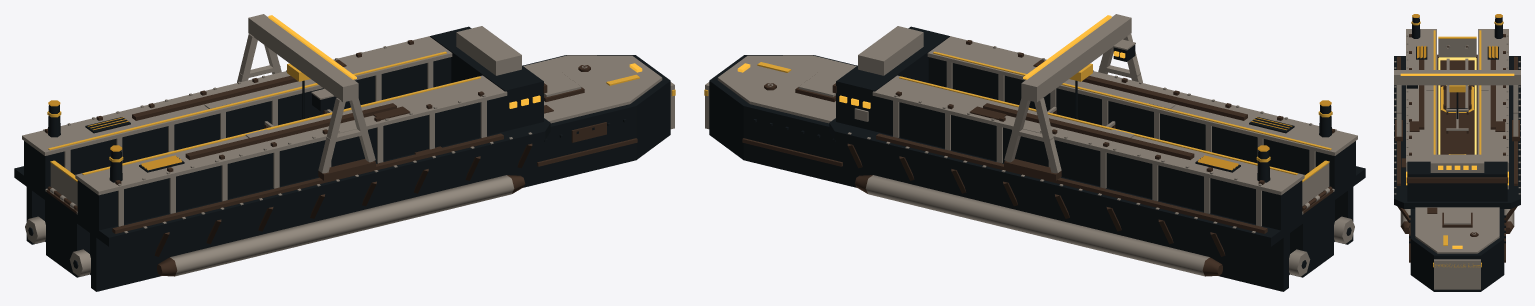
The model's file is gantry-bathyarch.glb.
The picture shows the model from 3 angles, left to right: view 1: azimuth 30°, elevation 25°; view 2: azimuth 150°, elevation 25°; view 3: azimuth 270°, elevation 25°; orthographic projection. The views are drawn at different scales.
Parts seen in each view (by area): view 1: hall_body (×2), hull_lower, hall_roof (×2), ballast_s, foundation_slab, deck, citadel, gantry_beam, hall_ridge (×2), crane_rail_s, hazard_stripe (×2), citadel_top (+11 smaller); view 2: hall_body (×2), hull_lower, hall_roof (×2), ballast_p, foundation_slab, deck, citadel, gantry_beam, hall_ridge (×2), crane_rail_p, hazard_stripe (×2), citadel_top (+9 smaller); view 3: hall_roof (×2), deck, citadel, foundation_slab, hull_lower, slip_floor, gantry_beam, bow_plate, citadel_top, citadel_visor, launch_gate, hall_ridge (×2) (+24 smaller).
Boxes of the visible parts, <box> form: hall_body (×2): <box>24,57,504,230</box>; hull_lower: <box>26,55,670,291</box>; hall_roof (×2): <box>22,36,507,195</box>; ballast_s: <box>170,175,514,276</box>; foundation_slab: <box>14,118,550,246</box>; deck: <box>523,55,662,123</box>; citadel: <box>430,26,543,131</box>; gantry_beam: <box>248,14,358,102</box>; hall_ridge (×2): <box>132,64,396,159</box>; crane_rail_s: <box>112,133,503,233</box>; hazard_stripe (×2): <box>48,51,480,175</box>; citadel_top: <box>456,26,521,75</box>; hall_body (×2): <box>875,57,1355,230</box>; hull_lower: <box>709,55,1353,291</box>; hall_roof (×2): <box>872,36,1357,195</box>; ballast_p: <box>865,175,1209,276</box>; foundation_slab: <box>829,118,1365,246</box>; deck: <box>717,55,856,123</box>; citadel: <box>836,26,949,131</box>; gantry_beam: <box>1021,14,1131,102</box>; hall_ridge (×2): <box>983,64,1247,159</box>; crane_rail_p: <box>876,133,1267,233</box>; hazard_stripe (×2): <box>899,51,1331,175</box>; citadel_top: <box>858,26,923,75</box>; hall_roof (×2): <box>1406,29,1508,164</box>; deck: <box>1415,207,1499,253</box>; citadel: <box>1407,161,1507,201</box>; foundation_slab: <box>1394,56,1520,208</box>; hull_lower: <box>1410,209,1504,291</box>; slip_floor: <box>1437,54,1477,154</box>; gantry_beam: <box>1394,70,1520,85</box>; bow_plate: <box>1434,259,1480,289</box>; citadel_top: <box>1430,154,1484,172</box>; citadel_visor: <box>1406,177,1508,183</box>; launch_gate: <box>1438,39,1476,56</box>; hall_ridge (×2): <box>1419,59,1495,129</box>.
Size of the model in its own units: 140 by 35.1 by 38.
